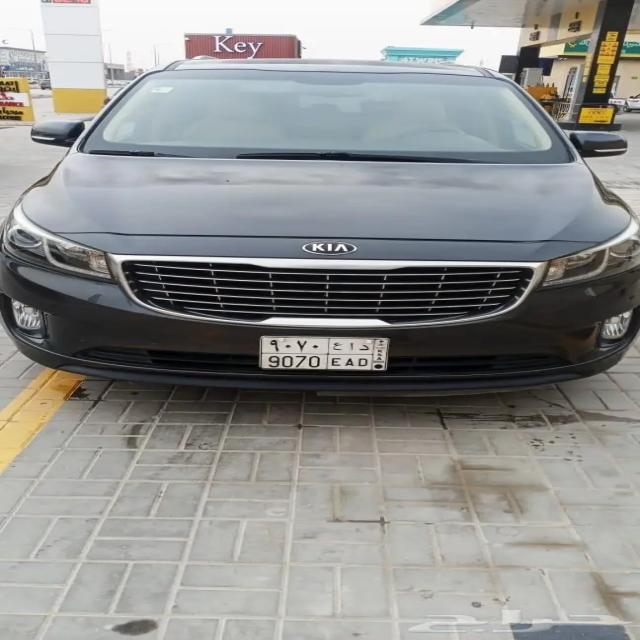license_plate: (260, 352, 374, 370)
